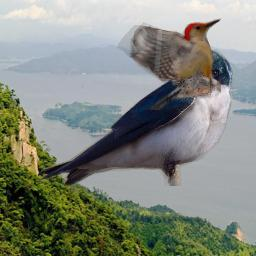Swallow: (38, 49, 233, 186)
Woodpecker: (116, 17, 221, 110)
